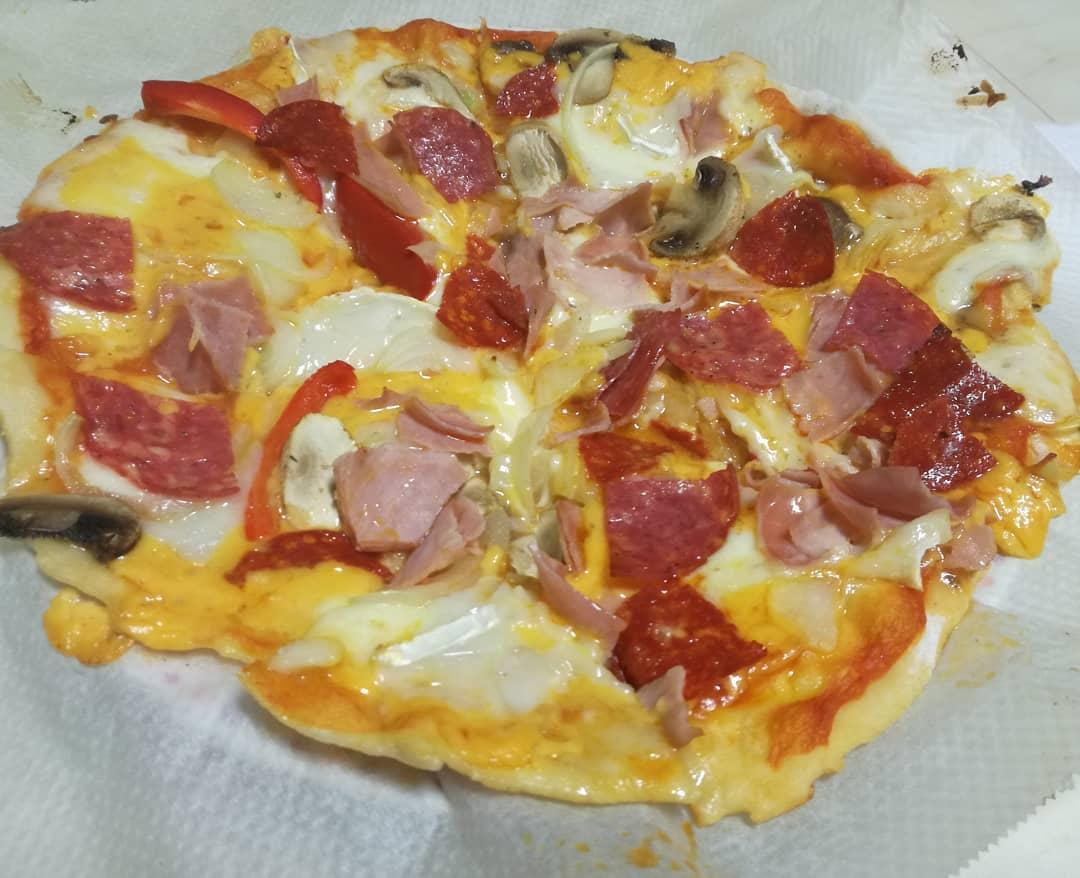Cheese: (340, 613, 535, 704), (285, 296, 449, 368)
Ham: (345, 400, 488, 574), (518, 184, 655, 344), (758, 464, 936, 564), (151, 273, 264, 391), (788, 354, 871, 429)
Mushroom: (0, 501, 151, 564), (655, 148, 727, 264), (559, 33, 624, 104), (378, 58, 468, 104), (499, 128, 569, 181)
Pepperoni: (859, 270, 1029, 465), (594, 576, 763, 696), (55, 391, 240, 500), (604, 471, 739, 576), (0, 211, 138, 313), (660, 301, 798, 378), (389, 104, 498, 198), (727, 188, 830, 279), (253, 102, 356, 175), (499, 64, 559, 114)
Peppers: (290, 175, 448, 296), (242, 369, 345, 536), (136, 74, 253, 139)
Pizza: (0, 23, 1080, 812)
